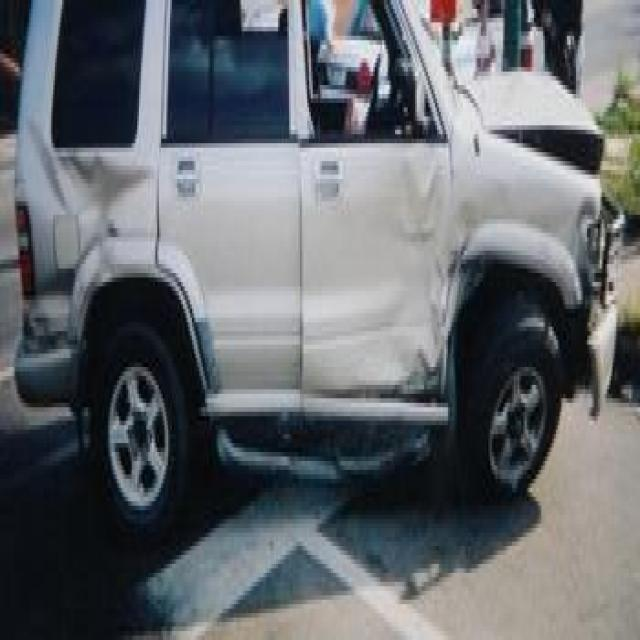damaged: (492, 85, 624, 412), (384, 134, 468, 443), (26, 126, 158, 296)
